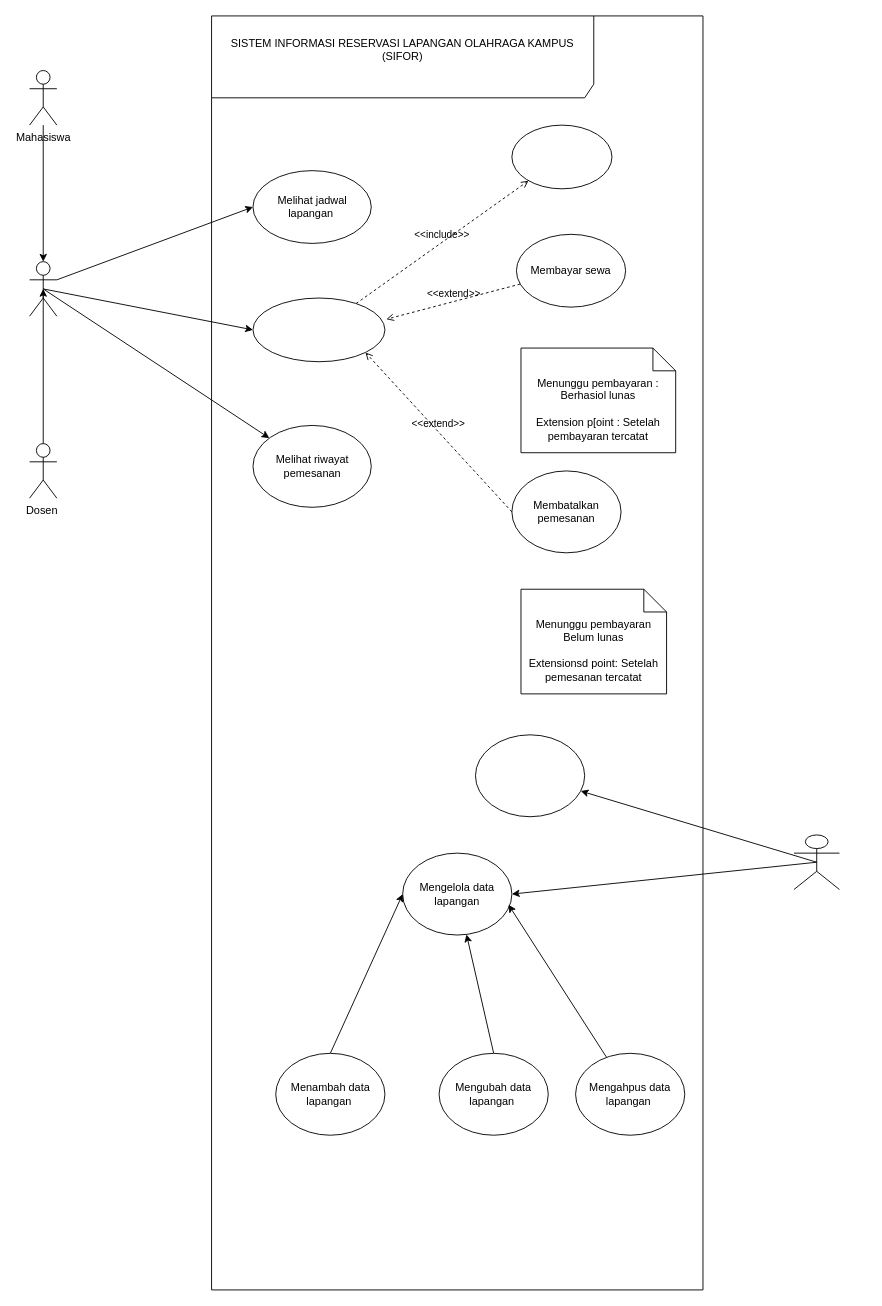
Image size: 882x1306. Some labels were removed from this diagram. Here are the shapes that lost their labels. From the top down, the centre of each, then its label:
[561,156]: Memeriksa ketersediaan slot
[43,288]: Pengguina
[318,329]: Memesan lapangan
[530,775]: Melihat laporan pemakaian lapangan
[816,862]: Pengelola lapangan
